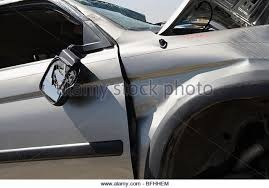Broken-glass: (37, 52, 80, 104)
Dent: (122, 34, 254, 129)
